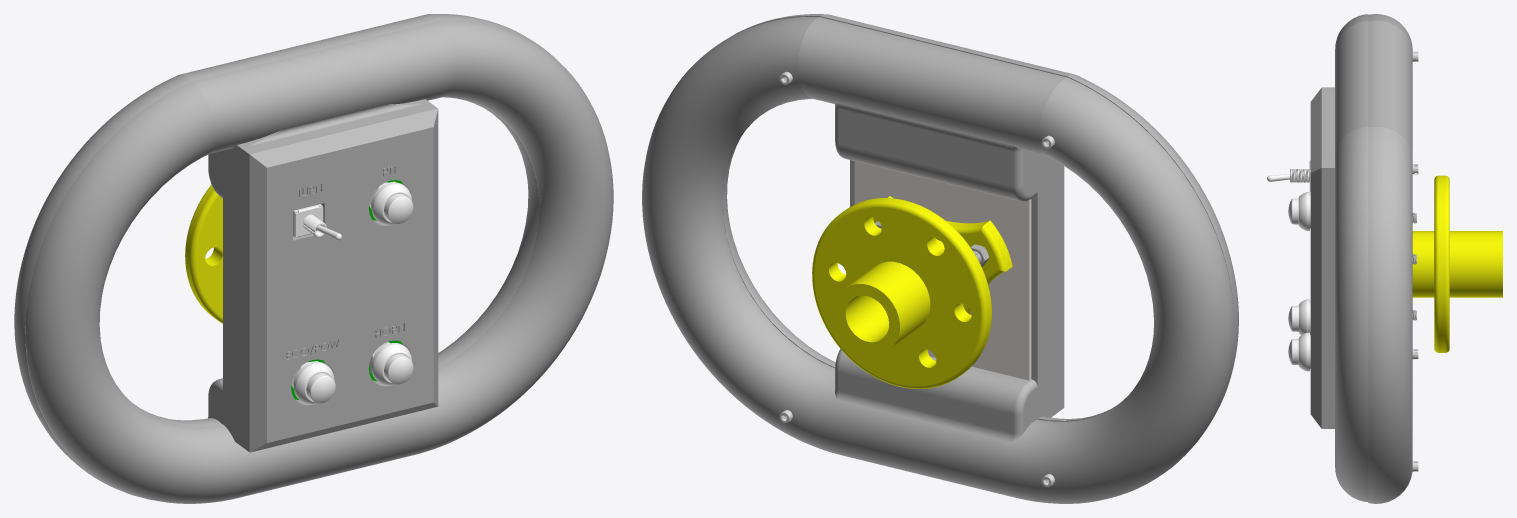
Rendered from bs2025_str_steering_wheel_assembly.glb.
3 views of the same model, side by side, from view 1: azimuth 30°, elevation 25°; view 2: azimuth 150°, elevation 25°; view 3: azimuth 270°, elevation 25° (orthographic). The views are drawn at different scales.
Visible parts, largest first — view 1: BS2025_STR_Steering_Wheel_Grips_Front-2, BS2025_STR_Steering_Wheel_Grips_Back-2, STR2.0 (2)-1, BS2025_STR_Formula_Quick_Release-1; view 2: BS2025_STR_Steering_Wheel_Grips_Back-2, BS2025_STR_Formula_Quick_Release-1, BS2025_STR_Steering_Wheel_Grips_Front-2, BS2025_STR_Steering_Wheel_Baseplate-1; view 3: BS2025_STR_Steering_Wheel_Grips_Front-2, BS2025_STR_Steering_Wheel_Grips_Back-2, BS2025_STR_Formula_Quick_Release-1, STR2.0 (2)-1.
Part boxes in pixels (left/top/right/bottom): BS2025_STR_Steering_Wheel_Grips_Front-2: left=25, top=20, right=613, bottom=503; BS2025_STR_Steering_Wheel_Grips_Back-2: left=14, top=14, right=549, bottom=500; STR2.0 (2)-1: left=291, top=180, right=413, bottom=404; BS2025_STR_Formula_Quick_Release-1: left=185, top=184, right=222, bottom=323; BS2025_STR_Steering_Wheel_Grips_Back-2: left=642, top=17, right=1234, bottom=503; BS2025_STR_Formula_Quick_Release-1: left=812, top=196, right=1012, bottom=388; BS2025_STR_Steering_Wheel_Grips_Front-2: left=723, top=14, right=1238, bottom=421; BS2025_STR_Steering_Wheel_Baseplate-1: left=854, top=161, right=1031, bottom=380; BS2025_STR_Steering_Wheel_Grips_Front-2: left=1310, top=14, right=1368, bottom=501; BS2025_STR_Steering_Wheel_Grips_Back-2: left=1368, top=14, right=1412, bottom=503; BS2025_STR_Formula_Quick_Release-1: left=1412, top=175, right=1502, bottom=352; STR2.0 (2)-1: left=1267, top=159, right=1310, bottom=371.
Size of the model in its own units: 0.2671 by 0.1857 by 0.1064.
